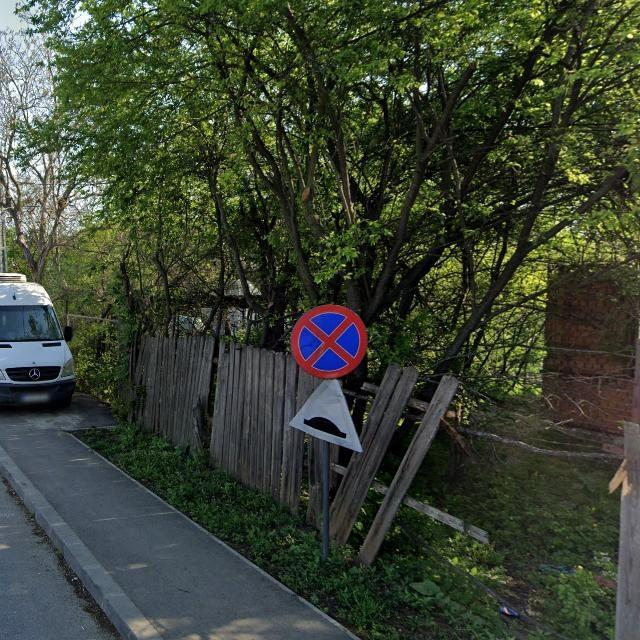forb_waiting: (290, 304, 368, 379)
